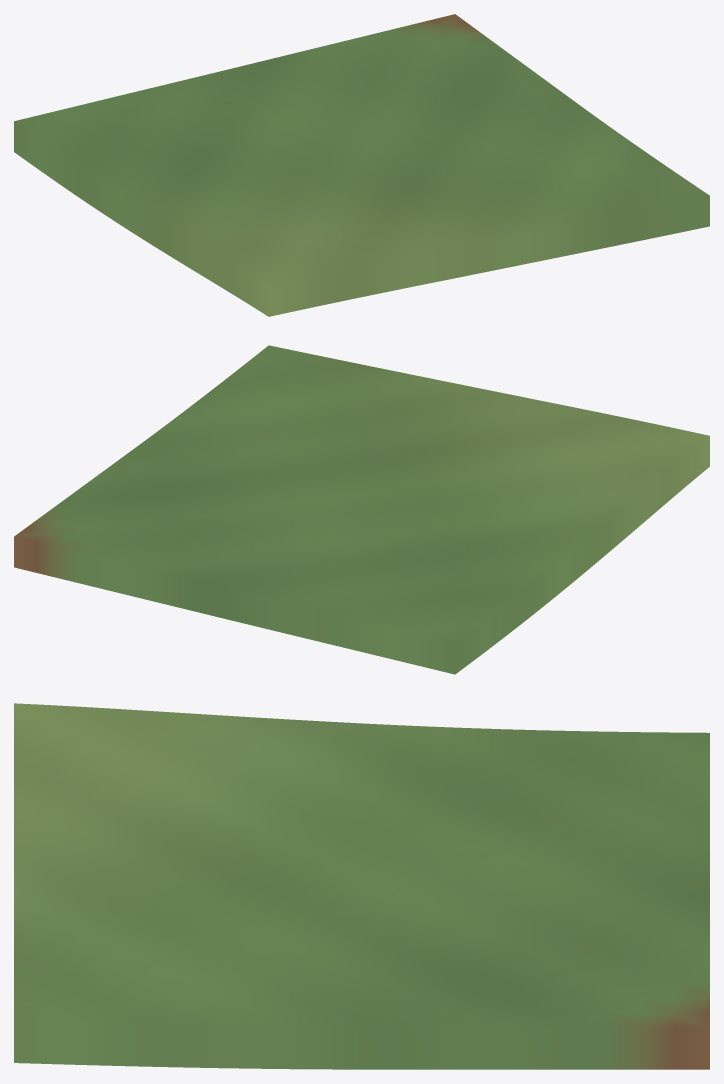
3 views of the same model, one above another, from view 1: azimuth 30°, elevation 25°; view 2: azimuth 150°, elevation 25°; view 3: azimuth 270°, elevation 25° (orthographic). The views are drawn at different scales.
Visible parts, largest first — view 1: terrain; view 2: terrain; view 3: terrain.
Part boxes in pixels (x1=…): terrain: x1=14, y1=14, x2=709, y2=316; terrain: x1=14, y1=345, x2=709, y2=674; terrain: x1=14, y1=703, x2=709, y2=1069.
Size of the model in its own units: 30 by 3.43 by 30.
